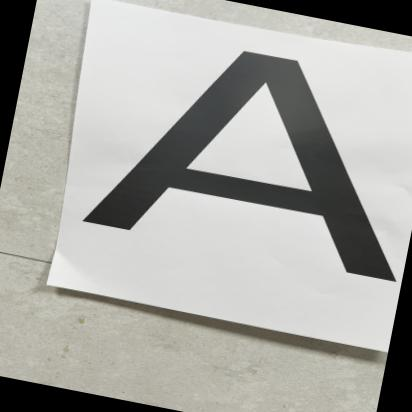seat: (65, 10, 412, 322)
